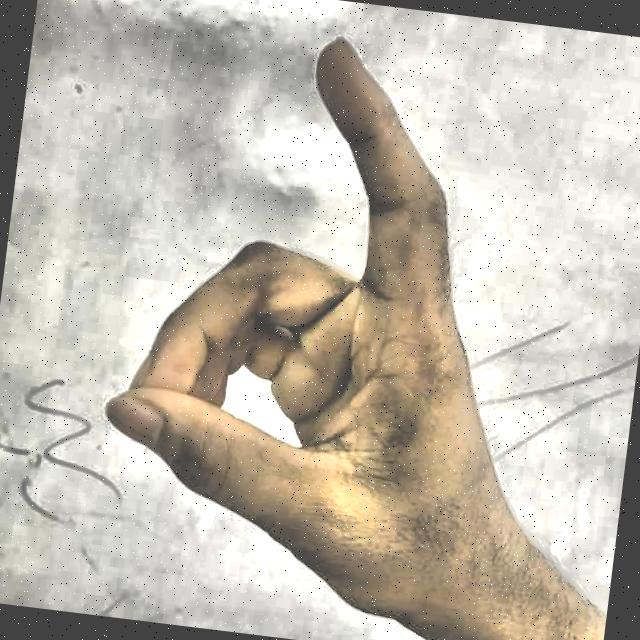Dha: (56, 0, 574, 640)
